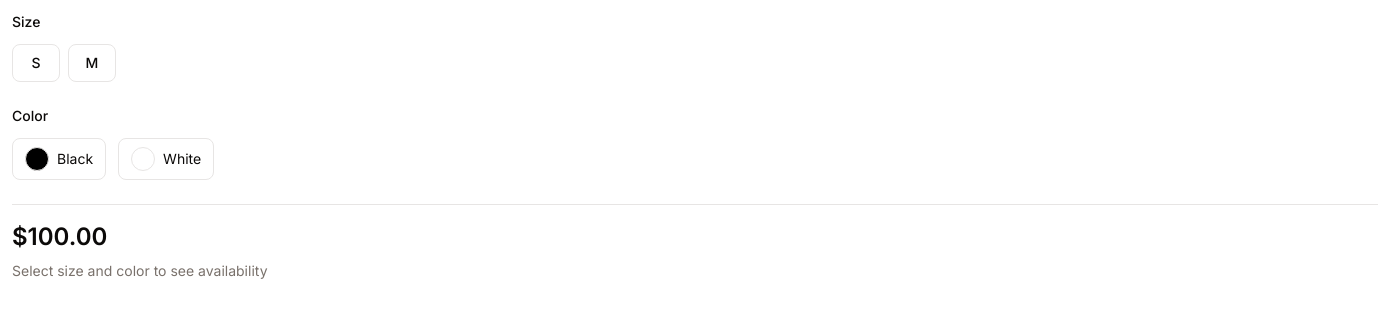
VariantSelector › displays price with modifier when variant has price_modifier
Click the radio button labelled "M": (92, 63) [68,44,116,82]
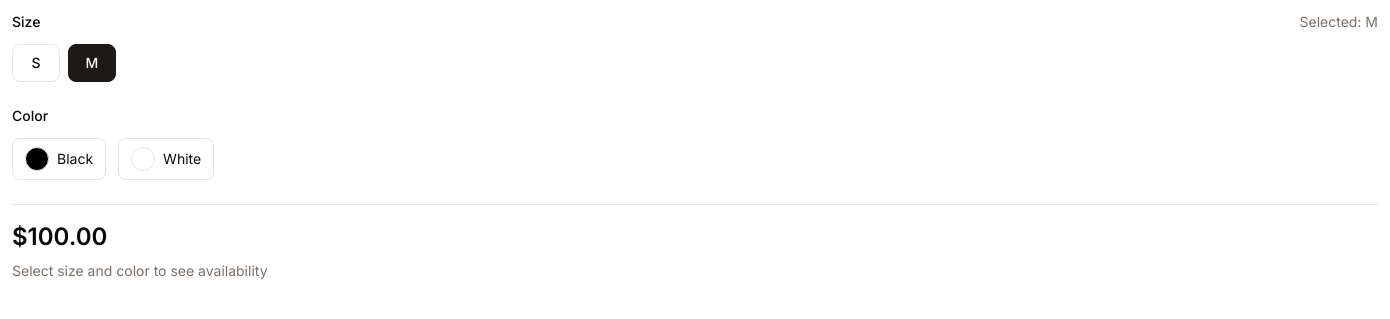
Click the radio button labelled "White": (166, 159) [118,138,214,180]
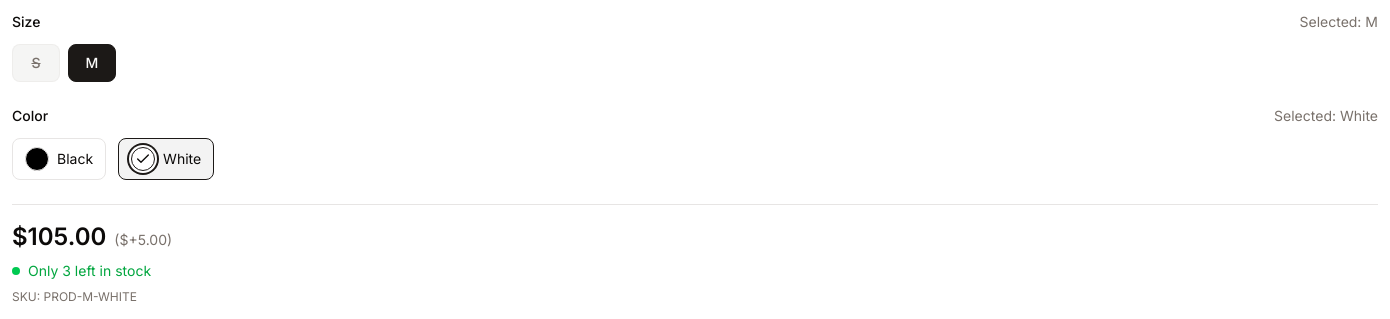
Result: the text "$105.00" is shown at [12,221,106,253]
Result: the text "($+5.00)" is shown at [114,230,172,250]
